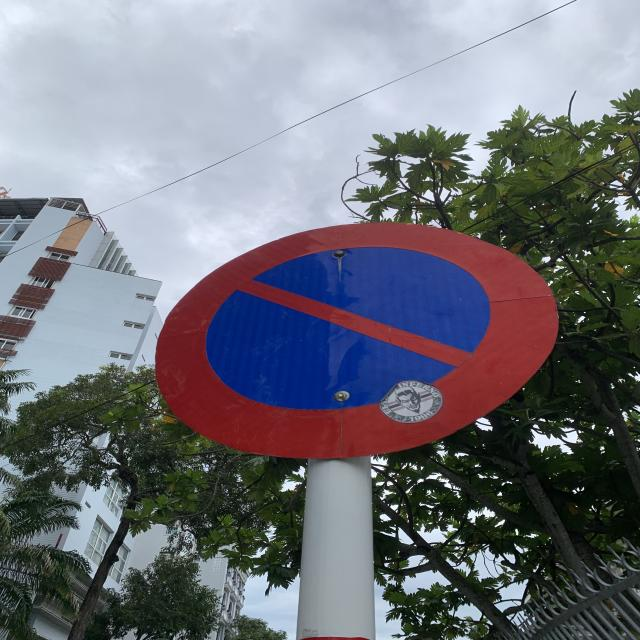Cam_Dau_Xe: (148, 218, 560, 458)
